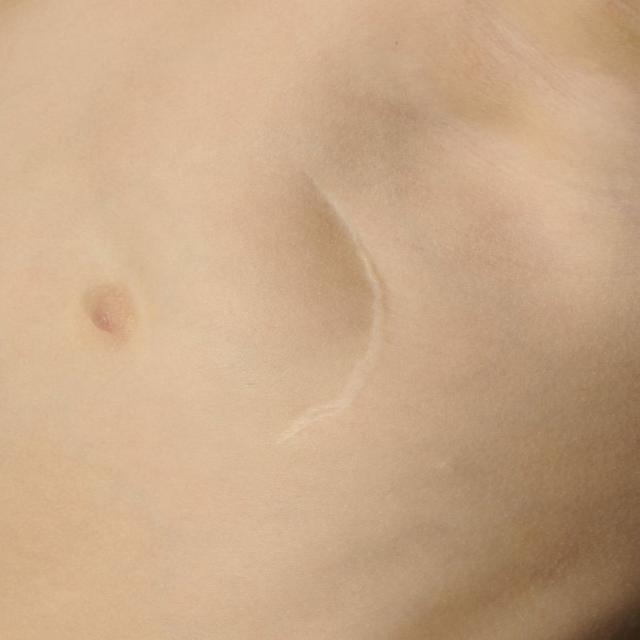wound: (183, 159, 500, 441)
